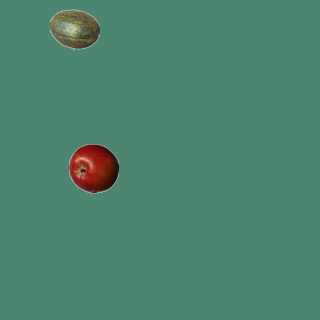Apple Braeburn: (68, 143, 118, 193)
Melon Piel de Sapo: (49, 4, 99, 54)
